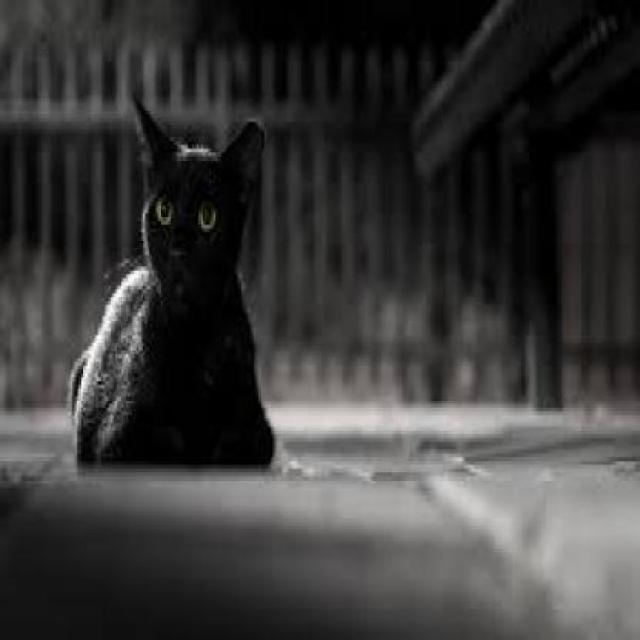animals: (60, 87, 282, 476)
